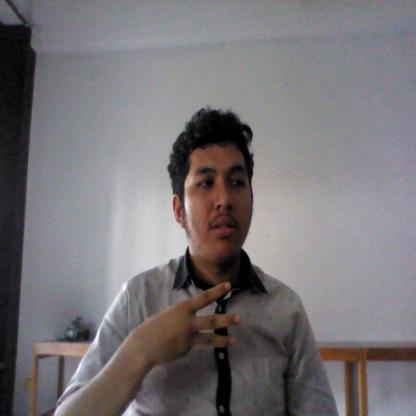E: (134, 280, 242, 369)
